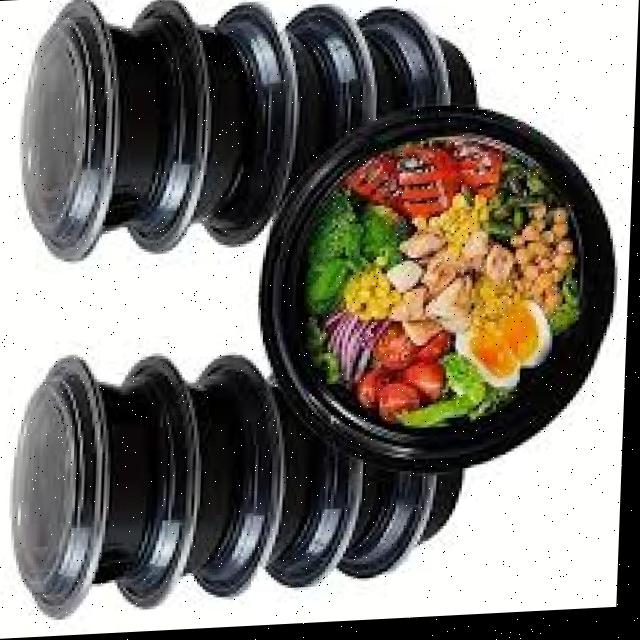disposable: (239, 74, 635, 493), (0, 0, 183, 261), (7, 364, 170, 597)
